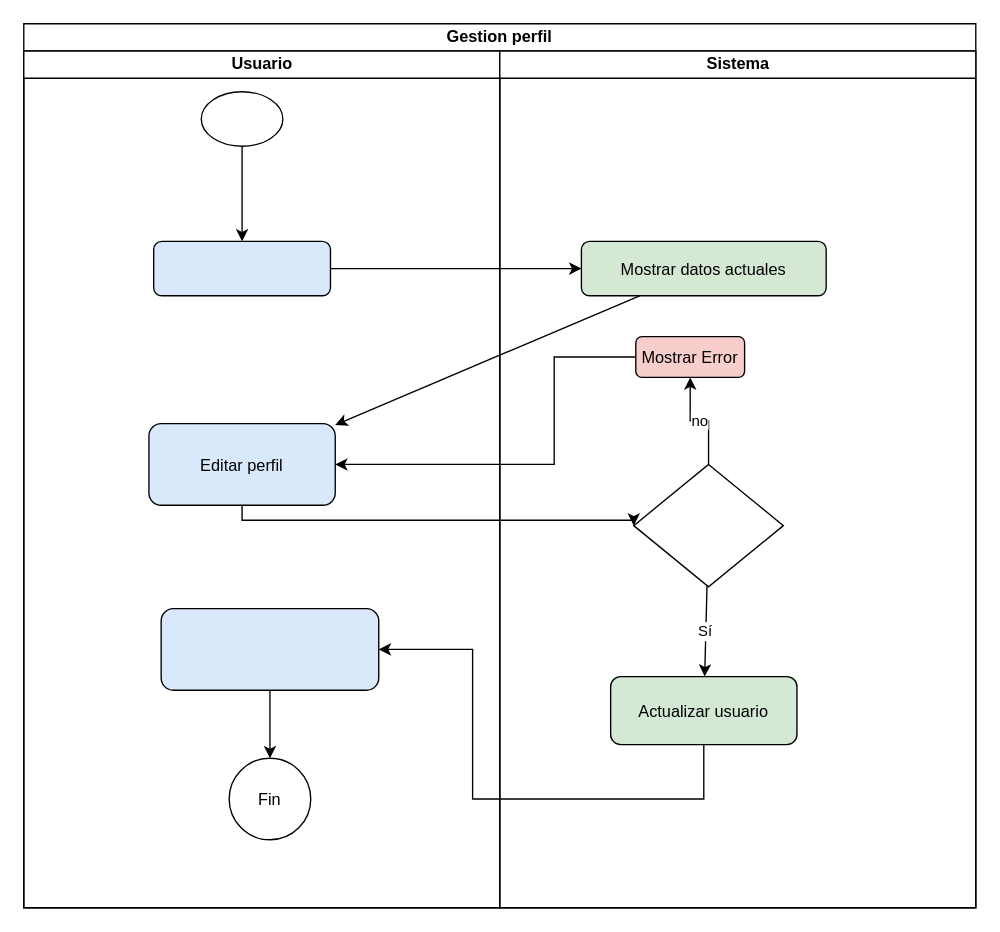
This 1000x932 diagram has some shape labels left out. Here are the shapes that lost their labels. From the top down, the centre of each, then its label:
At point (241, 118): "Inicio".
At point (241, 268): "Ir a perfil".
At point (707, 525): "Se validan cambios?".
At point (269, 648): "Guardar cambios".
